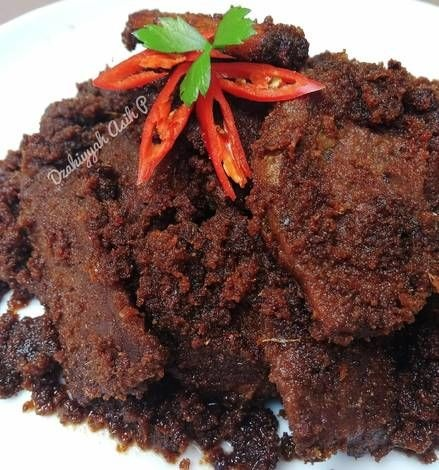rendang: (7, 83, 436, 448)
